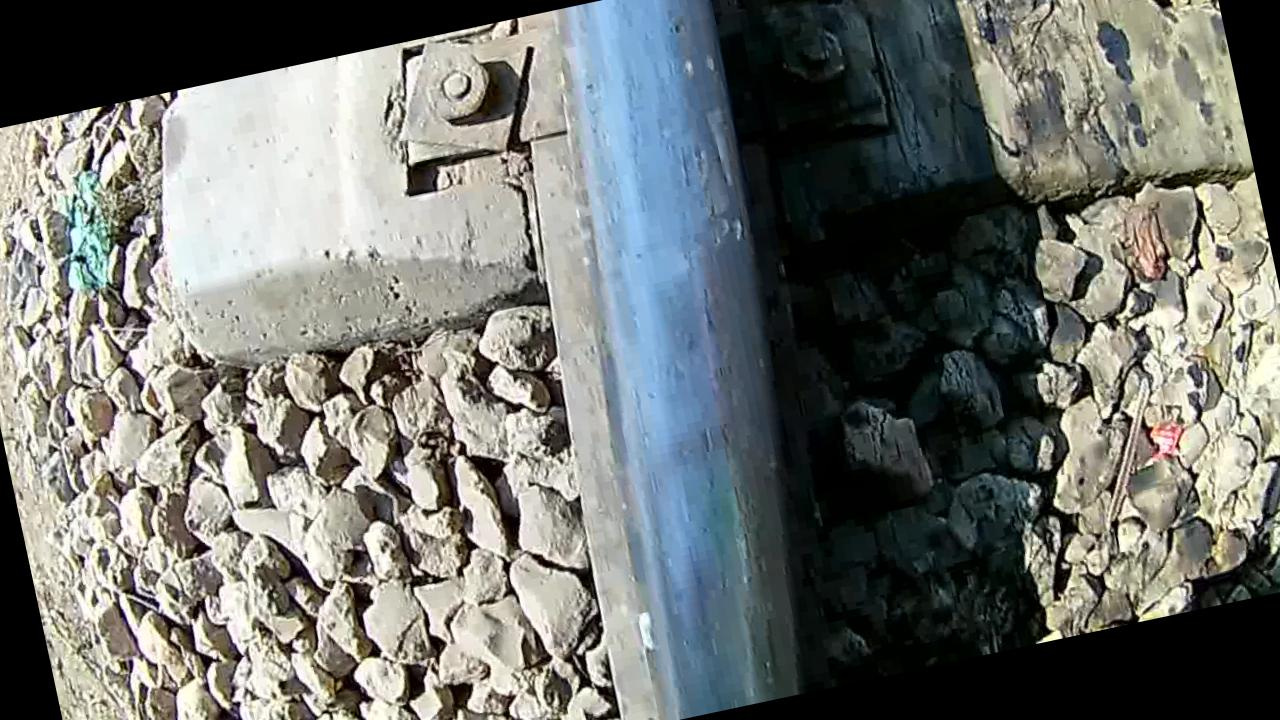crack: (553, 0, 857, 714)
